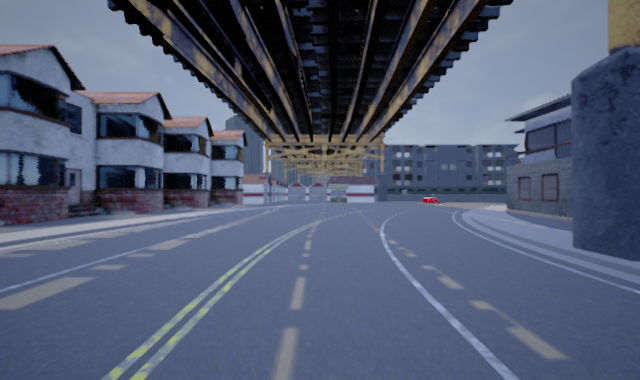vehicle: (423, 193, 438, 204)
